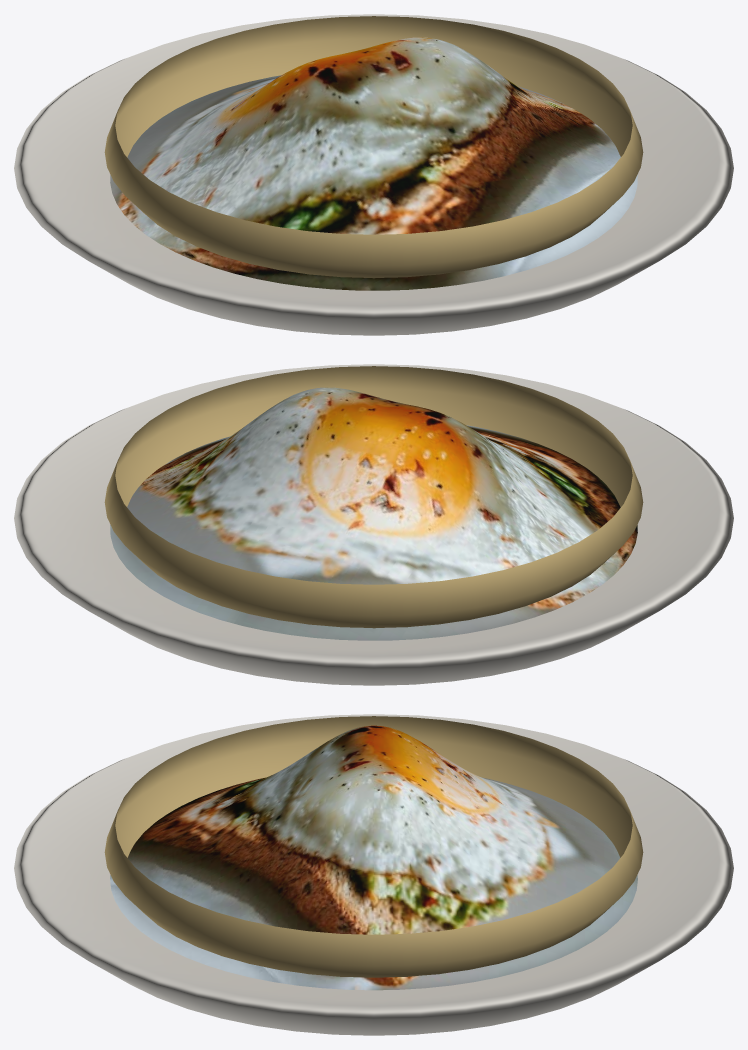
File: eggs-royale.glb
3 renders of one model, top to bottom at view 1: azimuth 30°, elevation 25°; view 2: azimuth 150°, elevation 25°; view 3: azimuth 270°, elevation 25°, orthographic.
Parts seen in each view (by area): view 1: eggs-royale; view 2: eggs-royale; view 3: eggs-royale.
Boxes of the visible parts, <box> form: eggs-royale: <box>14,14,733,335</box>; eggs-royale: <box>14,364,733,685</box>; eggs-royale: <box>14,714,733,1035</box>.
Size of the model in its own units: 0.24 by 0.0644 by 0.24.
Materials: 2 (1 with a texture image).
